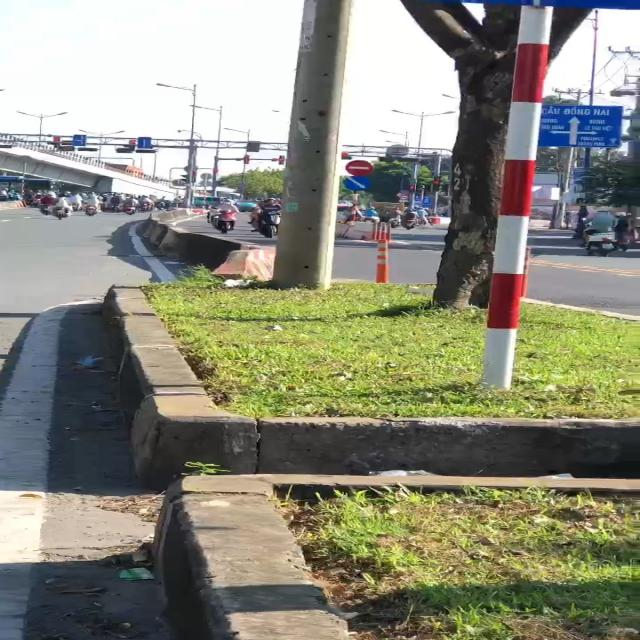Bien bao cam di nguoc chieu: (344, 158, 377, 176)
Bien bao huong phai di vong chuong ngai vat: (341, 175, 375, 194)
